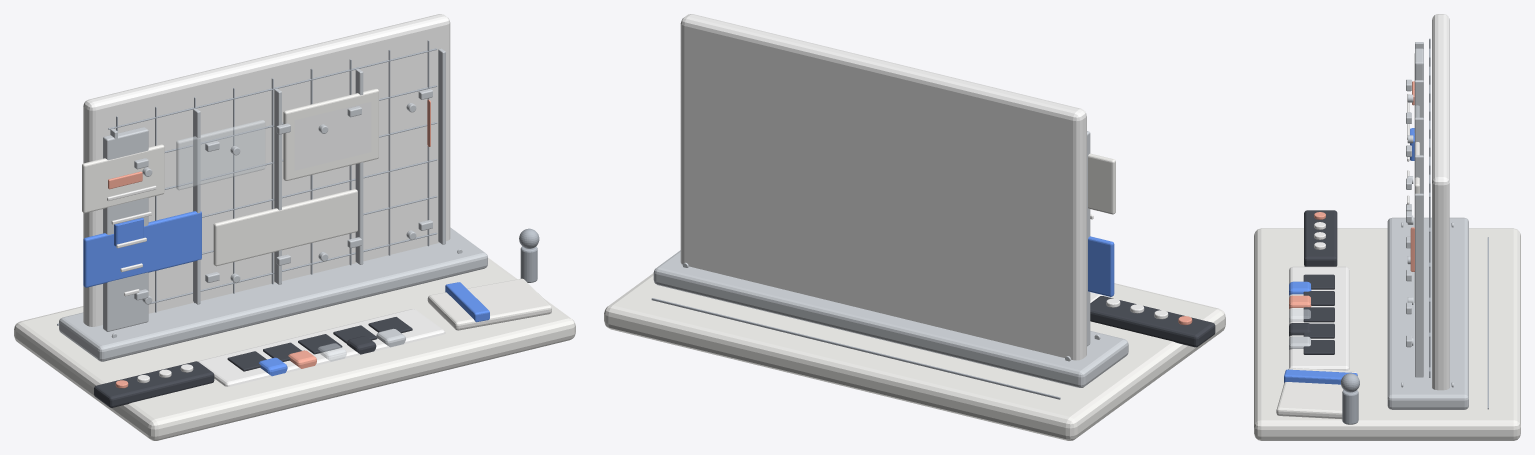
File: structure.glb
The picture shows the model from 3 angles, left to right: view 1: azimuth 30°, elevation 25°; view 2: azimuth 150°, elevation 25°; view 3: azimuth 270°, elevation 25°; orthographic projection. The views are drawn at different scales.
Visible parts, largest first — view 1: STR_grid_board, STR_console, STR_board_base, STR_panel_4, STR_panel_3, STR_panel_1, STR_ruler_track, STR_token_dock, SCREEN_structure_system, STR_booklet, STR_panel_0, STR_panel_2 (+13 smaller); view 2: STR_grid_board, STR_console, STR_board_base, STR_control_strip, STR_panel_0, STR_panel_3, STR_console_seam; view 3: STR_console, STR_board_base, STR_grid_board, STR_token_dock, STR_booklet, STR_mount_rail_4, STR_control_strip, STR_booklet_band, STR_operator_body, STR_token_slot_2, STR_token_slot_0, STR_token_slot_4 (+11 smaller).
Part boxes in pixels (x1,y1,x2,y2): STR_grid_board: (83,14,450,326); STR_console: (14,258,575,440); STR_board_base: (59,227,487,361); STR_panel_4: (213,189,357,266); STR_panel_3: (83,211,201,287); STR_panel_1: (176,120,265,190); STR_ruler_track: (103,127,148,331); STR_token_dock: (198,309,445,386); SCREEN_structure_system: (294,102,371,170); STR_booklet: (427,278,551,330); STR_panel_0: (82,144,164,213); STR_panel_2: (283,88,378,180); STR_grid_board: (680,14,1086,360); STR_console: (604,273,1225,440); STR_board_base: (653,250,1128,387); STR_control_strip: (1090,296,1215,347); STR_panel_0: (1088,153,1115,214); STR_panel_3: (1088,236,1114,296); STR_console_seam: (651,298,1060,399); STR_console: (1254,228,1520,440); STR_board_base: (1387,217,1468,409); STR_grid_board: (1432,14,1449,390); STR_token_dock: (1289,266,1349,370); STR_booklet: (1276,368,1357,419); STR_mount_rail_4: (1415,193,1423,377); STR_control_strip: (1304,210,1337,266); STR_booklet_band: (1284,369,1357,384); STR_operator_body: (1342,390,1358,424); STR_token_slot_2: (1303,307,1334,322); STR_token_slot_0: (1303,274,1334,289); STR_token_slot_4: (1303,340,1334,354).
Bounding box in the file's own units: 6.67 × 3.71 × 3.6.
